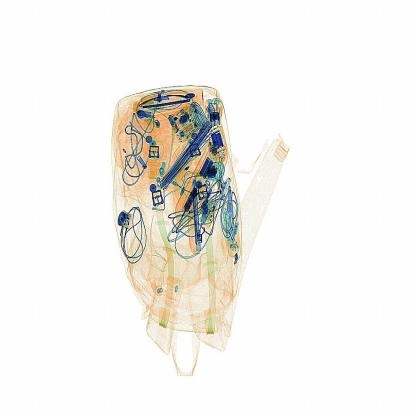pliers: (189, 176, 206, 256)
